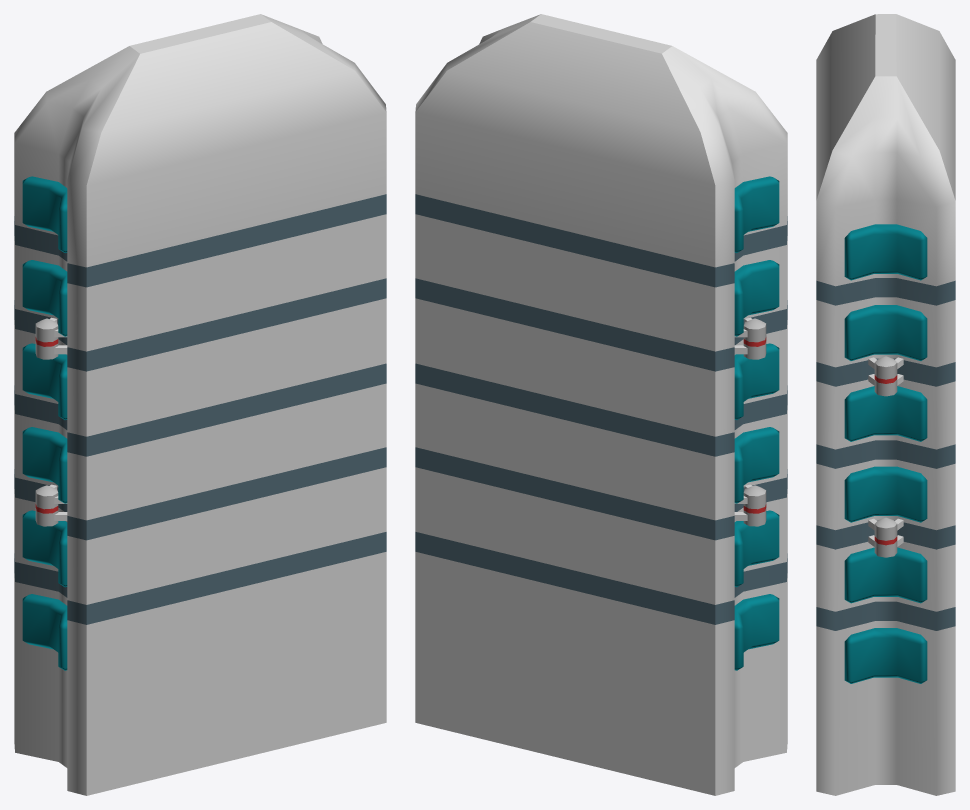
File: building_004.fbx
The picture shows the model from 3 angles, left to right: view 1: azimuth 30°, elevation 25°; view 2: azimuth 150°, elevation 25°; view 3: azimuth 270°, elevation 25°; orthographic projection. The views are drawn at different scales.
Visible parts, largest first — view 1: building_004; view 2: building_004; view 3: building_004.
Boxes of the visible parts, x1,y1,x2,y2 form: building_004: [14, 14, 386, 795]; building_004: [415, 14, 787, 795]; building_004: [816, 14, 955, 795].
Size of the model in its own units: 1448 by 553 by 2956.
